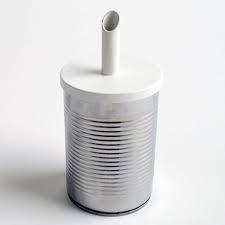Tin: (52, 7, 162, 213)
